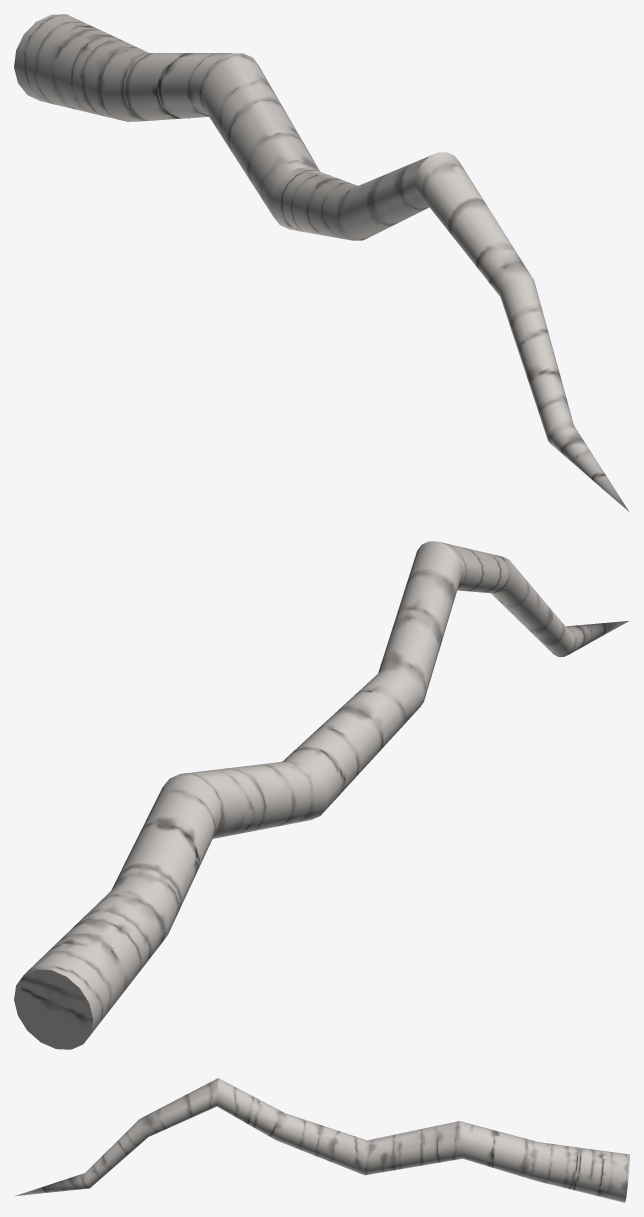
File: Sm_Branches5L.fbx
The picture shows the model from 3 angles, top to bottom: view 1: azimuth 30°, elevation 25°; view 2: azimuth 150°, elevation 25°; view 3: azimuth 270°, elevation 25°; orthographic projection. The views are drawn at different scales.
Visible parts, largest first — view 1: Sm_Branches5L; view 2: Sm_Branches5L; view 3: Sm_Branches5L.
Part boxes in pixels (<box>): Sm_Branches5L: <box>14,14,629,512</box>; Sm_Branches5L: <box>14,541,629,1049</box>; Sm_Branches5L: <box>14,1078,629,1202</box>.
Size of the model in its own units: 10.54 by 24.1 by 111.
